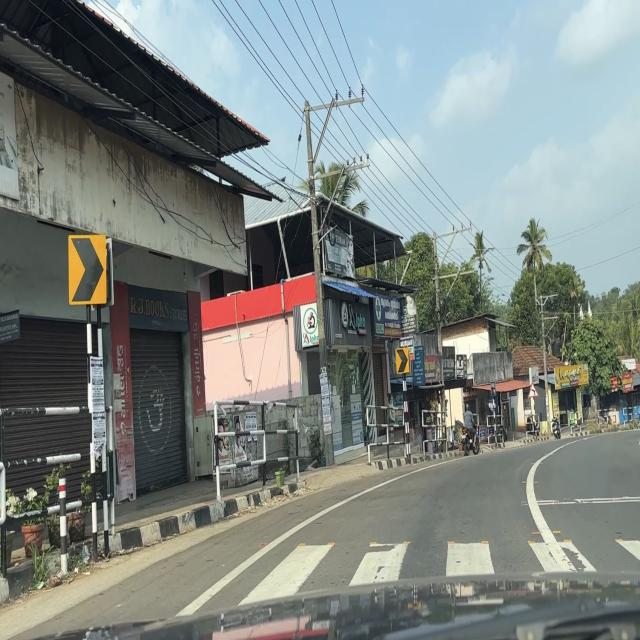LEFT_TURN_AHEAD: (528, 383, 539, 398)
TURN_RIGHT: (67, 233, 107, 306), (395, 347, 410, 375)
